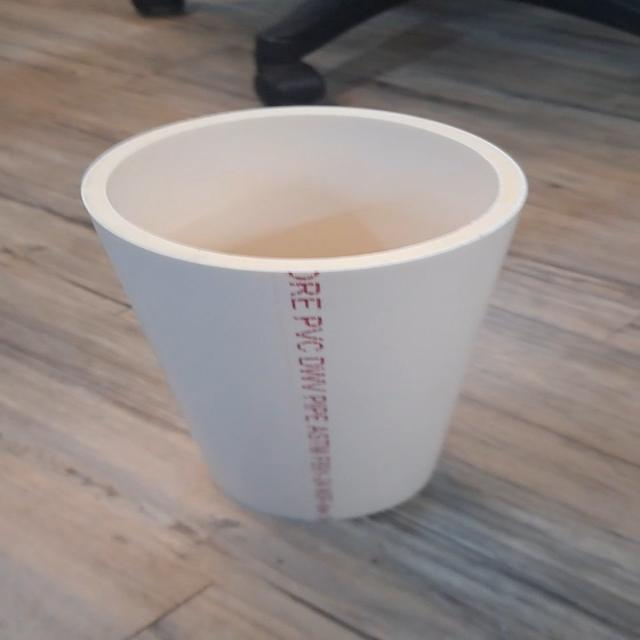CORAL: (81, 106, 525, 526)
